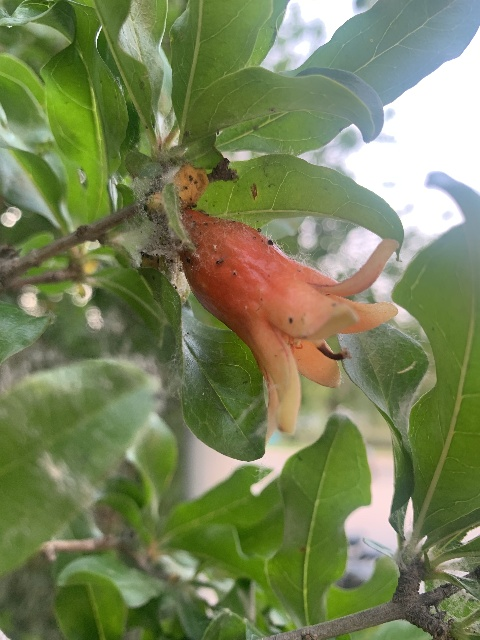flower: (182, 204, 400, 438)
